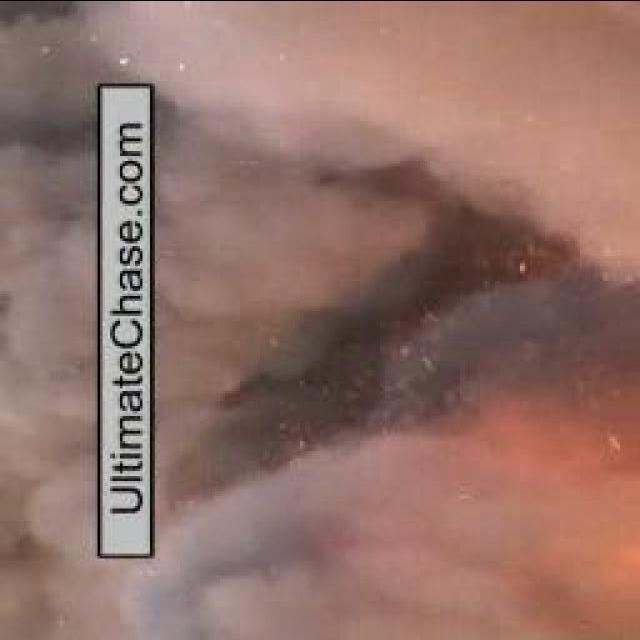Fire: (445, 369, 640, 638)
